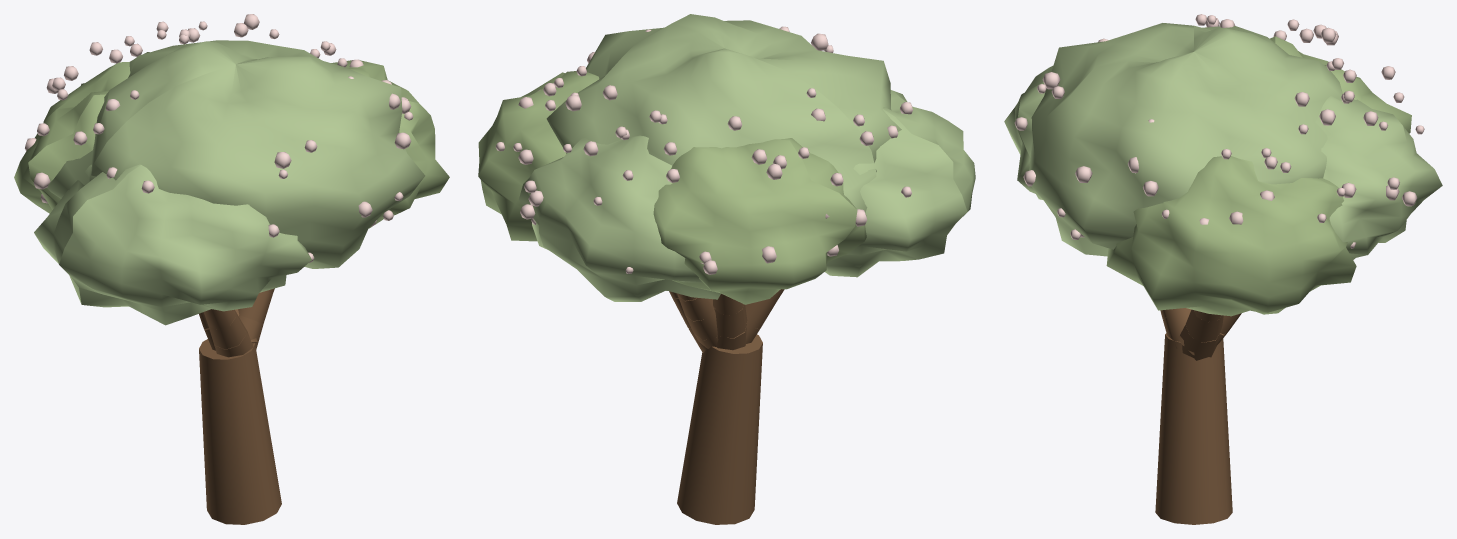
File: birsalma-tavasz.glb
3 renders of one model, left to right at view 1: azimuth 30°, elevation 25°; view 2: azimuth 150°, elevation 25°; view 3: azimuth 270°, elevation 25°, orthographic. The views are drawn at different scales.
Parts seen in each view (by area): view 1: korona-tomeg, korona-1, torzs, korona-4, virag, korona-2, ag-1-2, ag-2-2, ag-1-3; view 2: korona-tomeg, korona-4, korona-3, korona-1, torzs, korona-2, virag, ag-4-2, ag-3-3, ag-1-2, ag-3-2; view 3: korona-tomeg, korona-2, torzs, korona-3, virag, korona-1, korona-4, ag-2-2, ag-2-1, ag-1-1.
Boxes of the visible parts, <box> form: korona-tomeg: <box>47,40,425,268</box>; korona-1: <box>34,164,311,325</box>; torzs: <box>199,339,281,524</box>; korona-4: <box>14,62,130,213</box>; virag: <box>25,14,413,262</box>; korona-2: <box>331,60,449,228</box>; ag-1-2: <box>208,309,245,349</box>; ag-2-2: <box>238,291,272,324</box>; ag-1-3: <box>203,309,235,329</box>; korona-tomeg: <box>546,14,901,212</box>; korona-4: <box>653,138,866,304</box>; korona-3: <box>519,135,720,301</box>; korona-1: <box>825,90,975,277</box>; torzs: <box>677,334,762,524</box>; korona-2: <box>478,71,599,241</box>; virag: <box>495,26,912,274</box>; ag-4-2: <box>714,304,747,338</box>; ag-3-3: <box>678,296,713,320</box>; ag-1-2: <box>745,299,776,329</box>; ag-3-2: <box>685,308,717,340</box>; korona-tomeg: <box>1029,23,1342,256</box>; korona-2: <box>1106,156,1356,316</box>; torzs: <box>1155,333,1232,524</box>; korona-3: <box>1315,96,1442,259</box>; virag: <box>1014,14,1424,248</box>; korona-1: <box>1004,66,1053,199</box>; korona-4: <box>1270,36,1411,133</box>; ag-2-2: <box>1185,309,1223,342</box>; ag-2-1: <box>1180,325,1220,360</box>; ag-1-1: <box>1163,309,1191,348</box>.
Bounding box in the file's own units: 3.52 × 3.78 × 3.17.
